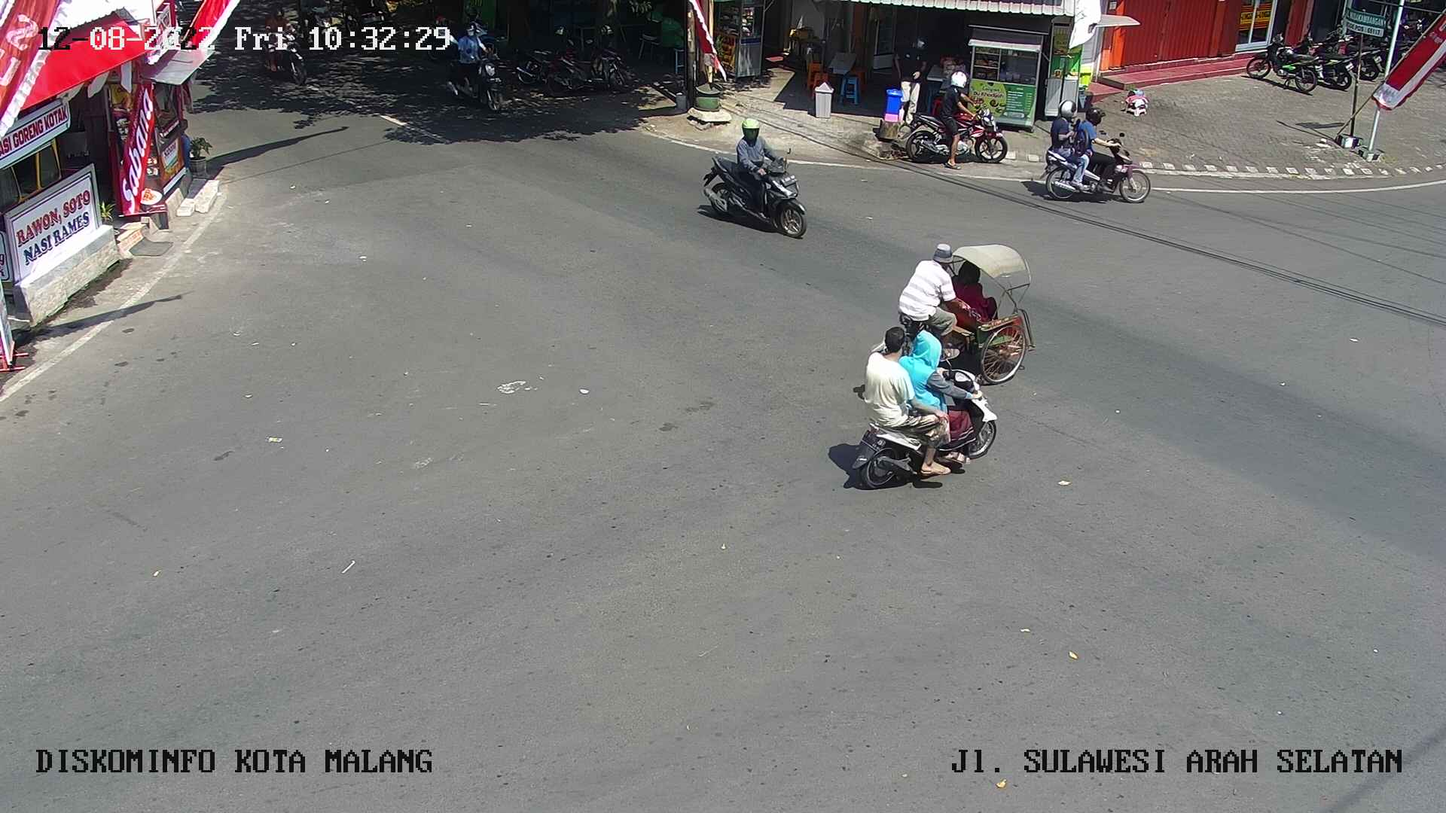with_helmet: (671, 87, 819, 257), (1027, 93, 1159, 210), (882, 68, 1013, 182)
without_helmet: (825, 322, 1016, 498), (859, 230, 1070, 380)
